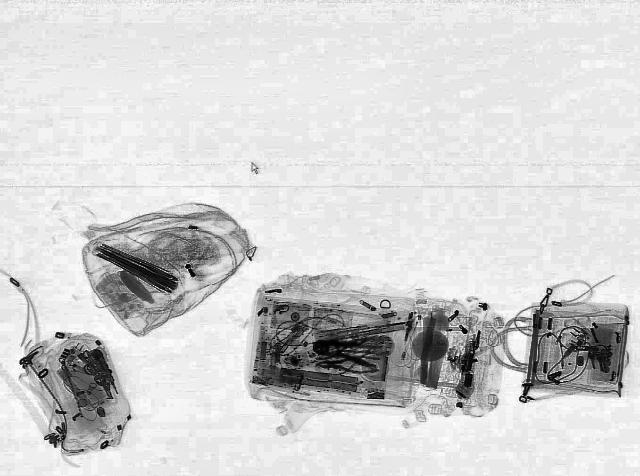Pliers: (306, 334, 386, 368), (310, 328, 382, 362), (314, 355, 380, 373)
